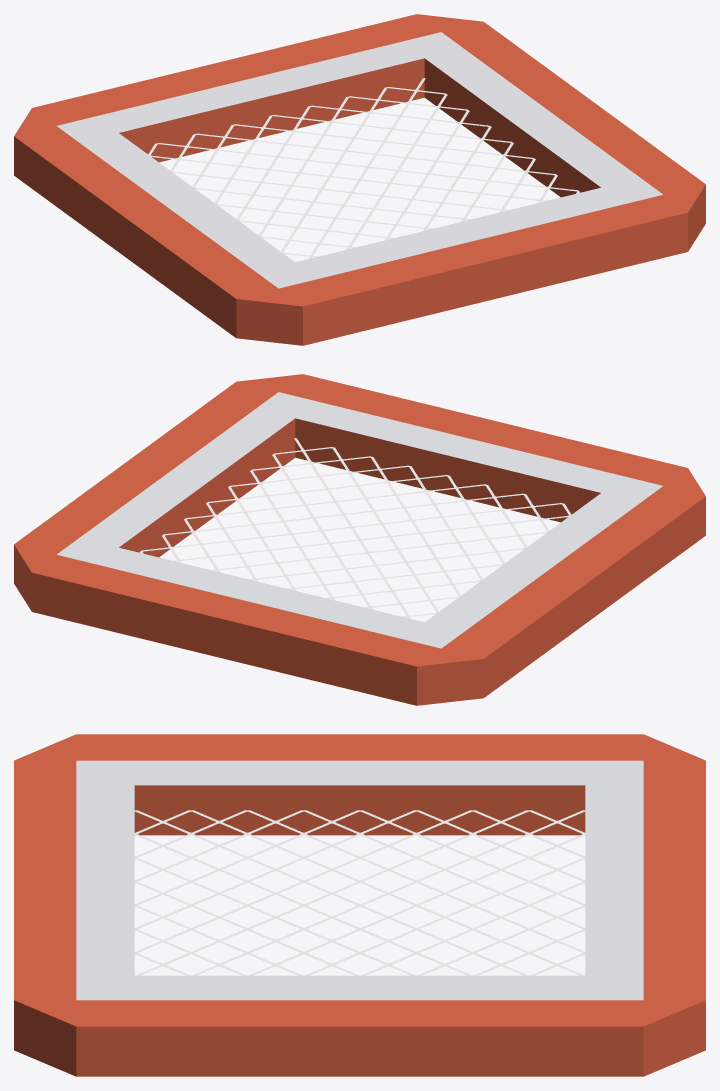
Rendered from metalTile.fbx.
3 views of the same model, one above another, from view 1: azimuth 30°, elevation 25°; view 2: azimuth 150°, elevation 25°; view 3: azimuth 270°, elevation 25° (orthographic). The views are drawn at different scales.
Parts seen in each view (by area): view 1: metalTile; view 2: metalTile; view 3: metalTile.
Part boxes in pixels (x1,y1,x2,y2): metalTile: (14, 14, 705, 345); metalTile: (14, 374, 705, 705); metalTile: (14, 734, 705, 1076).
Bounding box in the file's own units: 10 × 0.8 × 10.
